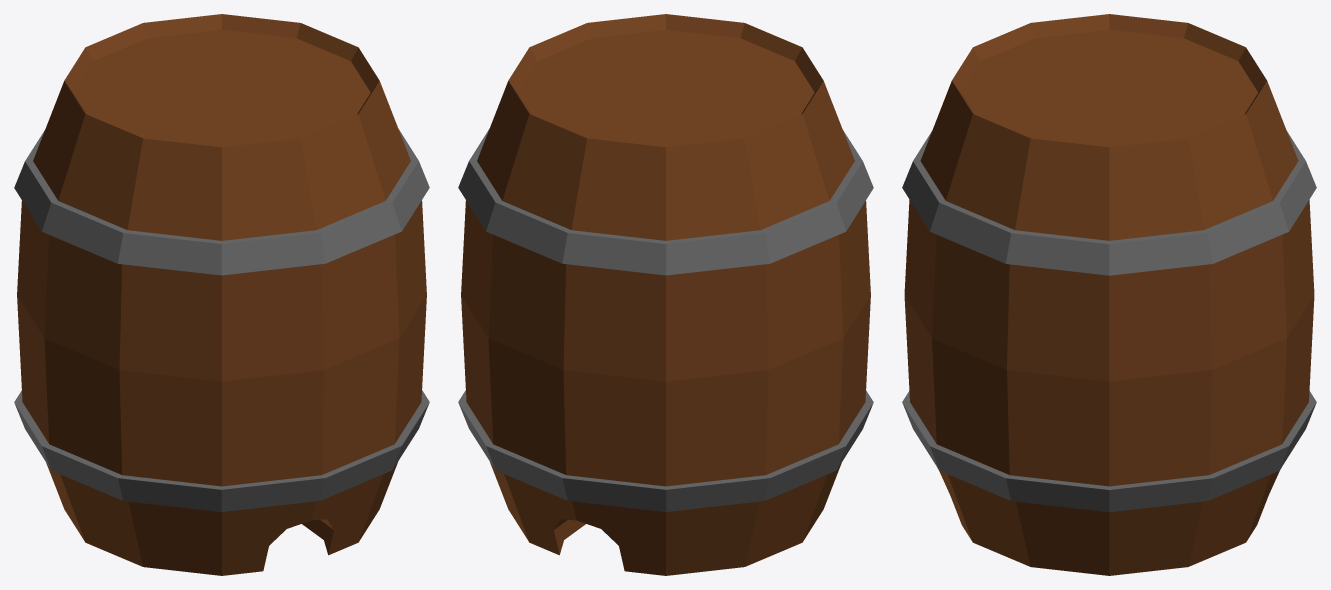
File: Barrel.fbx
The picture shows the model from 3 angles, left to right: view 1: azimuth 30°, elevation 25°; view 2: azimuth 150°, elevation 25°; view 3: azimuth 270°, elevation 25°; orthographic projection.
Parts seen in each view (by area): view 1: Barrel; view 2: Barrel; view 3: Barrel.
Boxes of the visible parts, bbox=[...] form: Barrel: bbox=[14, 14, 429, 575]; Barrel: bbox=[458, 14, 873, 575]; Barrel: bbox=[902, 14, 1316, 575].
Bounding box in the file's own units: 52.76 × 60 × 52.61.
